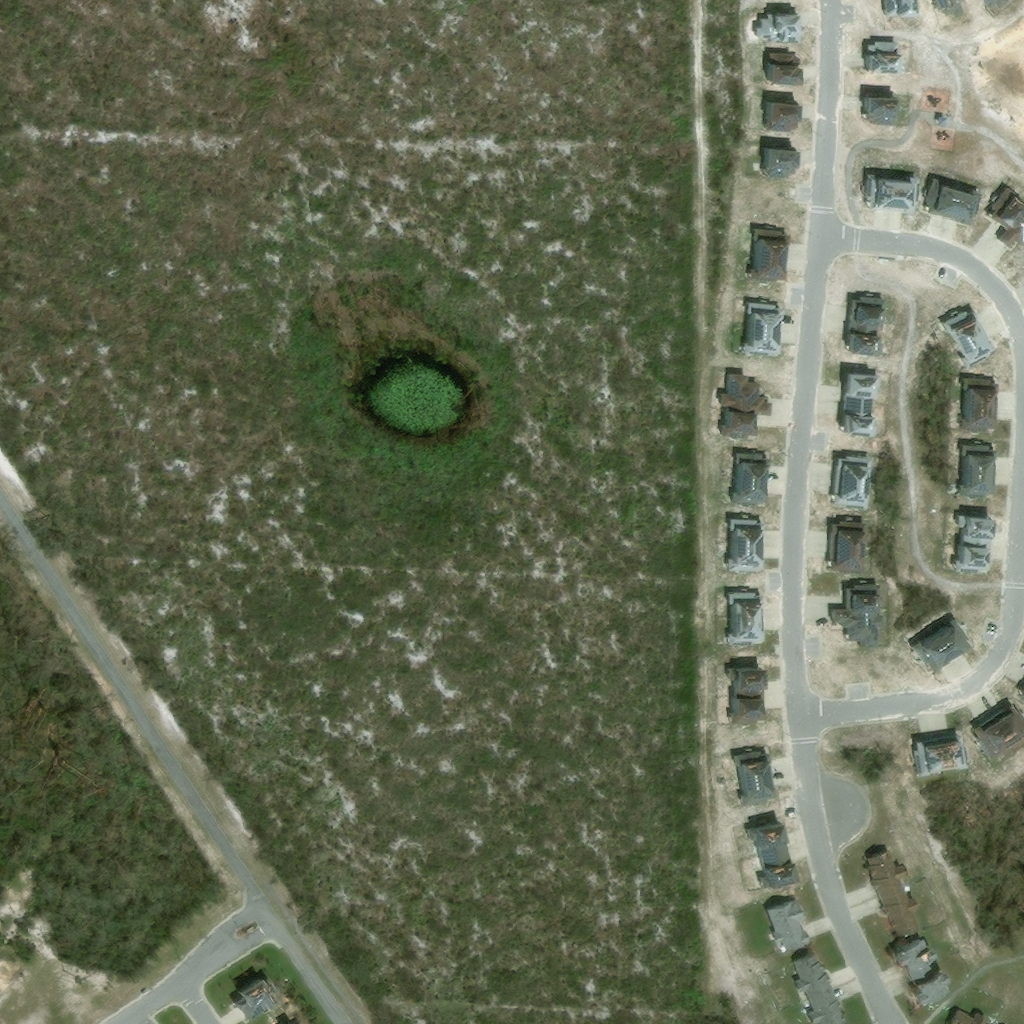destroyed: (931, 0, 965, 18), (980, 0, 1009, 10)
minor_damage: (863, 849, 922, 940), (931, 301, 1000, 374), (904, 608, 974, 679), (742, 820, 798, 894), (718, 373, 771, 438), (831, 587, 884, 651), (836, 368, 883, 440), (922, 178, 984, 229), (970, 703, 1023, 759), (722, 452, 772, 510), (841, 296, 886, 358), (911, 731, 970, 776), (741, 302, 785, 361), (949, 515, 991, 575), (734, 750, 776, 808), (722, 591, 764, 648), (728, 666, 766, 729), (723, 516, 763, 575), (832, 452, 873, 509), (861, 174, 917, 215), (957, 379, 996, 433), (748, 233, 788, 285), (988, 192, 1023, 250), (952, 451, 995, 498), (230, 976, 273, 1021), (888, 937, 934, 979), (745, 12, 802, 45), (827, 529, 864, 574), (861, 40, 900, 76), (759, 146, 796, 179), (861, 97, 897, 127), (764, 52, 795, 86), (763, 101, 795, 132)
no_damage: (790, 953, 849, 1023), (764, 899, 810, 955), (906, 970, 947, 1007), (950, 1010, 989, 1023)
